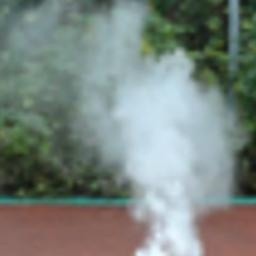smoke: (1, 0, 244, 255)
